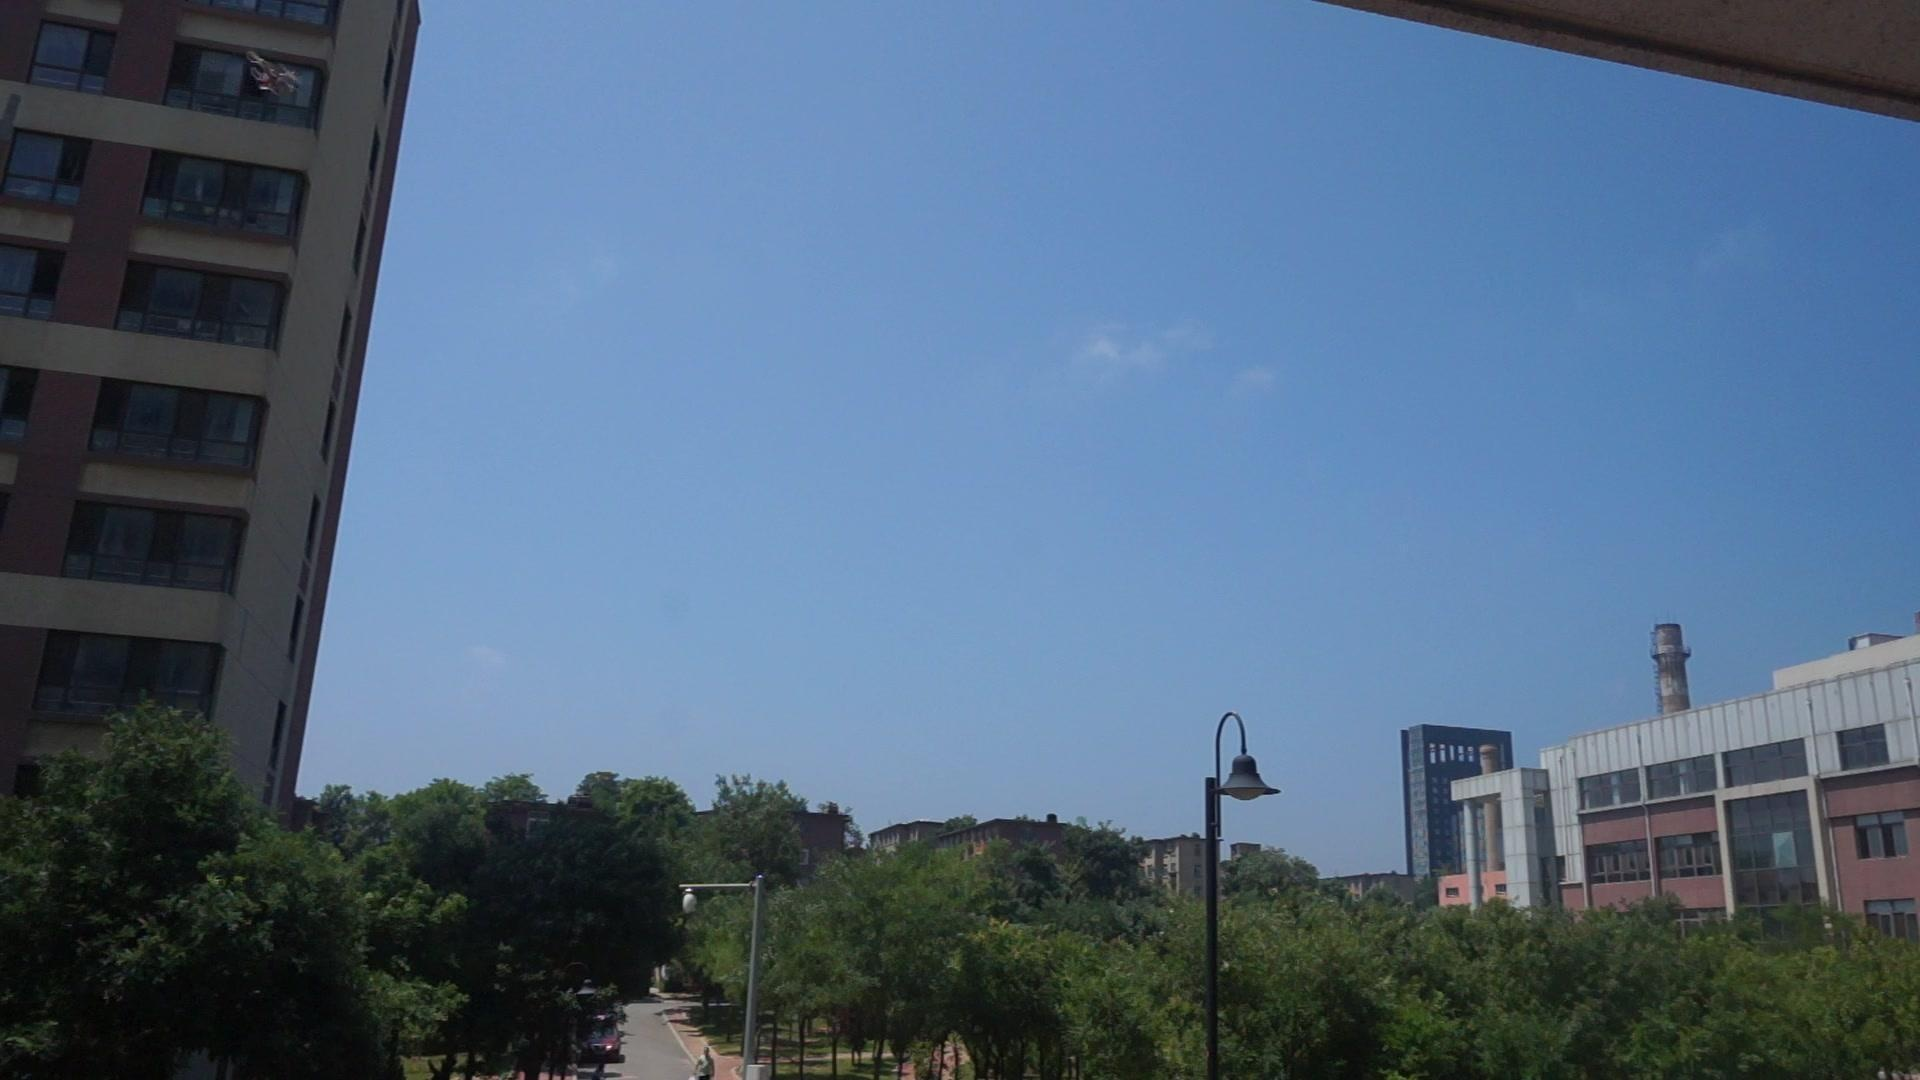UAV: (248, 51, 303, 98)
